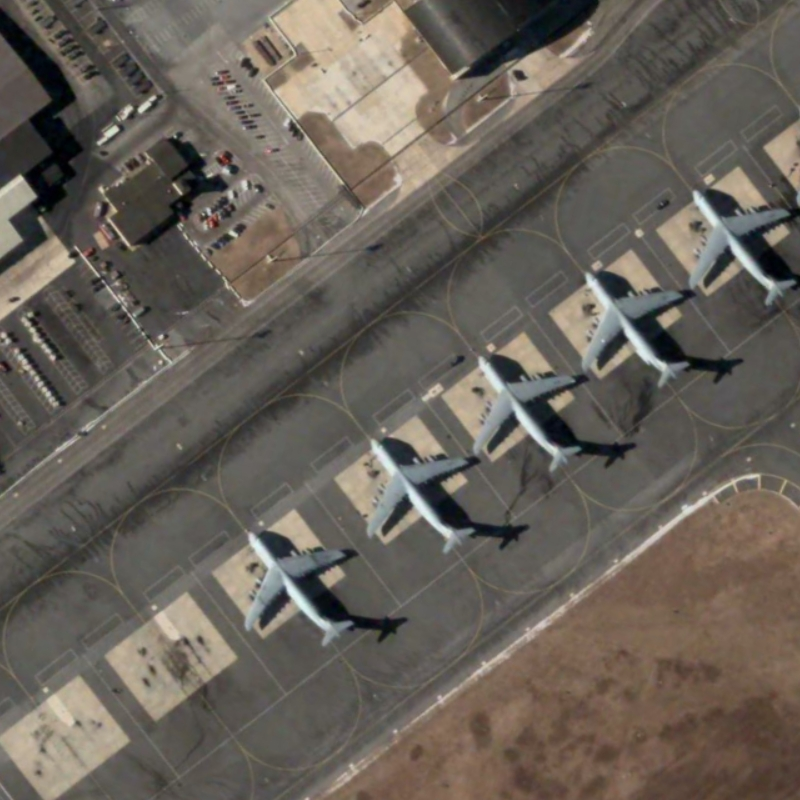A4: (465, 342, 589, 479), (360, 424, 482, 563), (571, 263, 700, 392), (239, 515, 359, 651), (685, 179, 800, 317)
